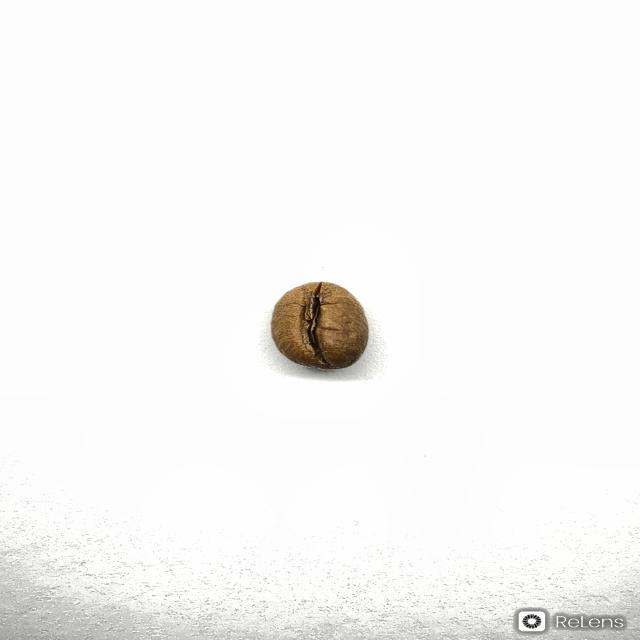Good bean: (269, 280, 369, 370)
